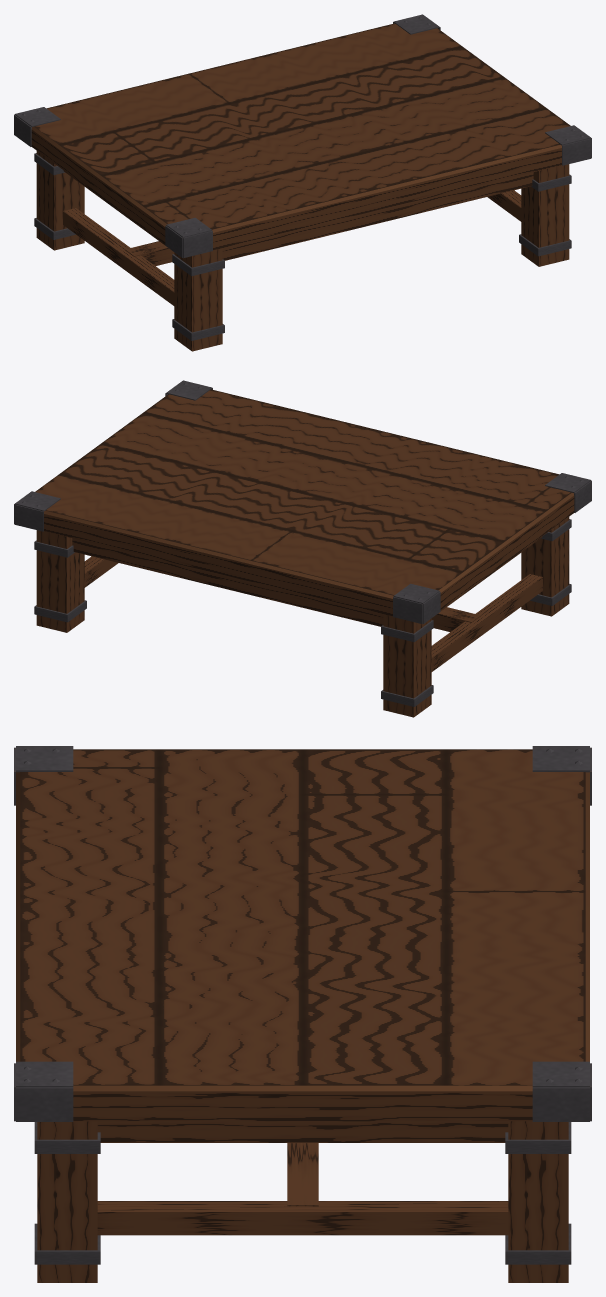
Rendered from Table_Dark.fbx.
3 renders of one model, top to bottom at view 1: azimuth 30°, elevation 25°; view 2: azimuth 150°, elevation 25°; view 3: azimuth 270°, elevation 25°, orthographic. The views are drawn at different scales.
Parts seen in each view (by area): view 1: Table_Dark; view 2: Table_Dark; view 3: Table_Dark.
Boxes of the visible parts, box(x1,y1,x2,y2) form: Table_Dark: box(14, 14, 591, 351); Table_Dark: box(14, 380, 591, 717); Table_Dark: box(14, 746, 591, 1282).
Bounding box in the file's own units: 5.63 × 1.63 × 4.03.
1 material, 1 textured.
